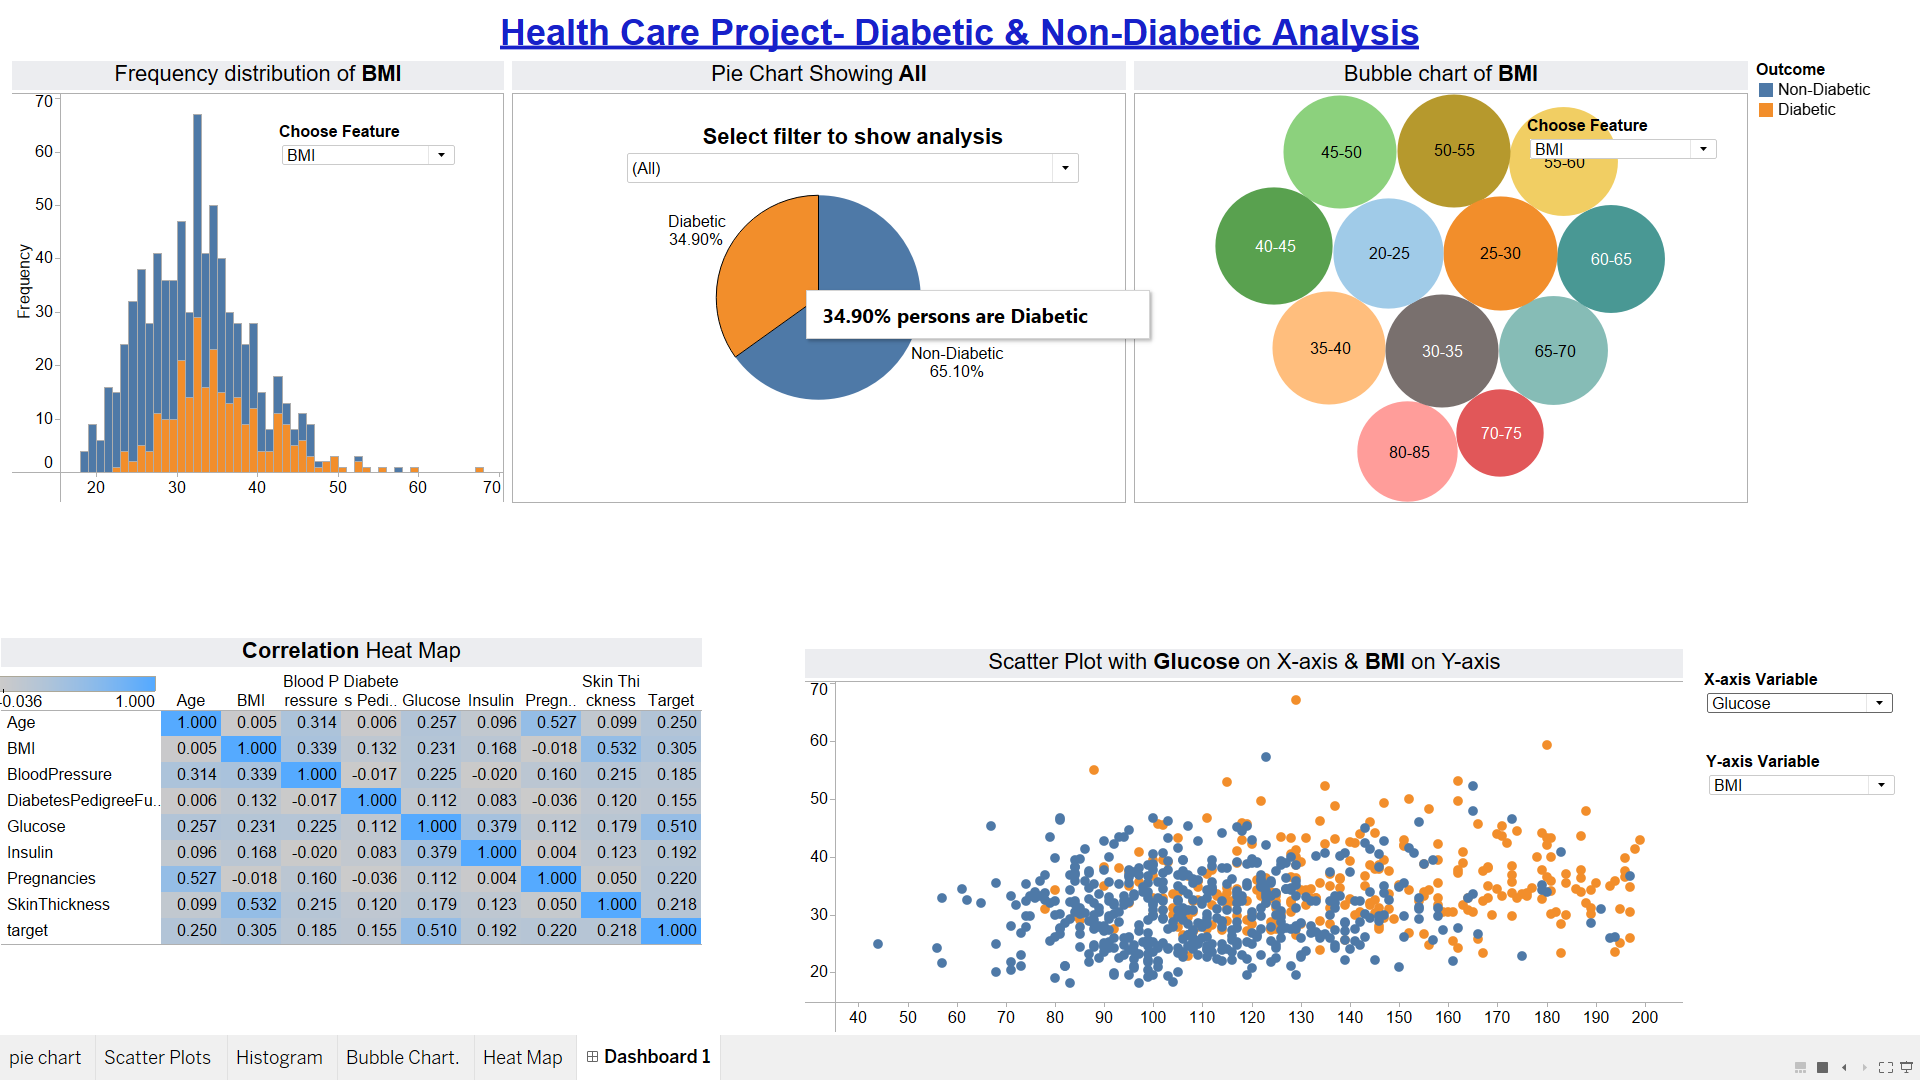

What the dashboard file says about the page in this screenshot:
{"tool":"tableau","page":{"name":"Dashboard 1","canvas":[1000,1000],"units":"permille","ordinal":0},"visuals":[{"type":"title","box":[5.1,9.7,989.8,59.5]},{"type":"worksheet","title":"Histogram","mark":"Automatic","rows":["Calculation_1755840948749340676"],"cols":["Choose Hiastogram (bin)"],"box":[5.1,69.2,317.5,546.1]},{"type":"worksheet","title":"pie chart","mark":"Pie","box":[322.5,69.2,285.1,546.1]},{"type":"worksheet","title":"Bubble Chart.","mark":"Circle","box":[607.6,69.2,285.7,546.1]},{"type":"legend","title":"Scatter Plots","param":"[federated.0iuhxpv1b2qliu1c0vra51o1gc1f].[none:target:ok]","box":[893.3,69.2,101.6,81.3]},{"type":"parameter","param":"[Parameters].[Choose 1st Variable (copy)_1755840948753502214]","box":[795.6,112.9,100.3,59.5]},{"type":"parameter","param":"[Parameters].[Parameter 2]","box":[145.4,118.9,93.3,54.6]},{"type":"filter","title":"pie chart","param":"[federated.0iuhxpv1b2qliu1c0vra51o1gc1f].[none:target:ok]","box":[325.1,120.2,238.7,80.1]},{"type":"worksheet","title":"Heat Map","mark":"Square","rows":["index"],"box":[0.6,616.2,414,383.8]},{"type":"worksheet","title":"Scatter Plots","mark":"Automatic","rows":["Choose 1st Variable (copy)_1755840948746100739"],"cols":["Calculation_1755840948745175042"],"box":[419.1,627.4,457.7,371.4]},{"type":"parameter","param":"[Parameters].[Parameter 1]","box":[887.3,648.1,100.2,59.2]},{"type":"parameter","param":"[Parameters].[Choose 1st Variable (copy)_1755840948745056257]","box":[888.5,727.8,100.2,59.2]}]}

Visuals, with their boxes on the dashboard's canvas, which has no fixed pixel size, in thousandths of its width and height (x1, y1, x2, y2). These are canvas units, not pixel positions in the 1920x1080 screenshot, which may show the page scaled, cropped or inside an application window:
title: [5, 10, 995, 69]
"Histogram" worksheet: [5, 69, 323, 615]
"pie chart" worksheet (Pie marks): [322, 69, 608, 615]
"Bubble Chart." worksheet (Circle marks): [608, 69, 893, 615]
"Scatter Plots" legend: [893, 69, 995, 150]
parameter: [796, 113, 896, 172]
parameter: [145, 119, 239, 174]
"pie chart" filter: [325, 120, 564, 200]
"Heat Map" worksheet (Square marks): [1, 616, 415, 1000]
"Scatter Plots" worksheet: [419, 627, 877, 999]
parameter: [887, 648, 988, 707]
parameter: [888, 728, 989, 787]
